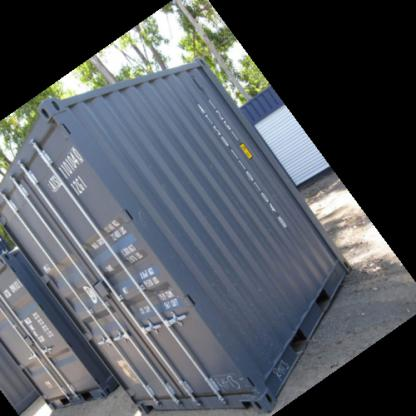Damage: (213, 369, 254, 399), (266, 352, 290, 383), (188, 70, 210, 103), (132, 199, 150, 234)
